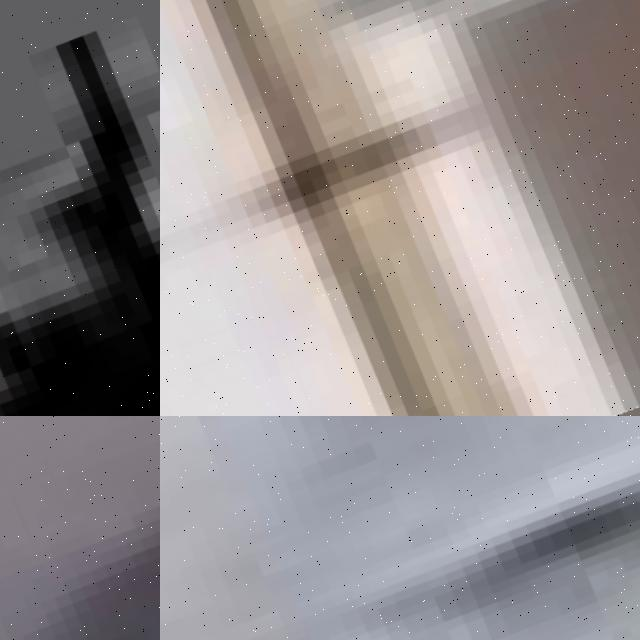drone: (160, 0, 640, 416), (160, 416, 640, 640), (0, 0, 160, 416), (0, 416, 160, 640)
